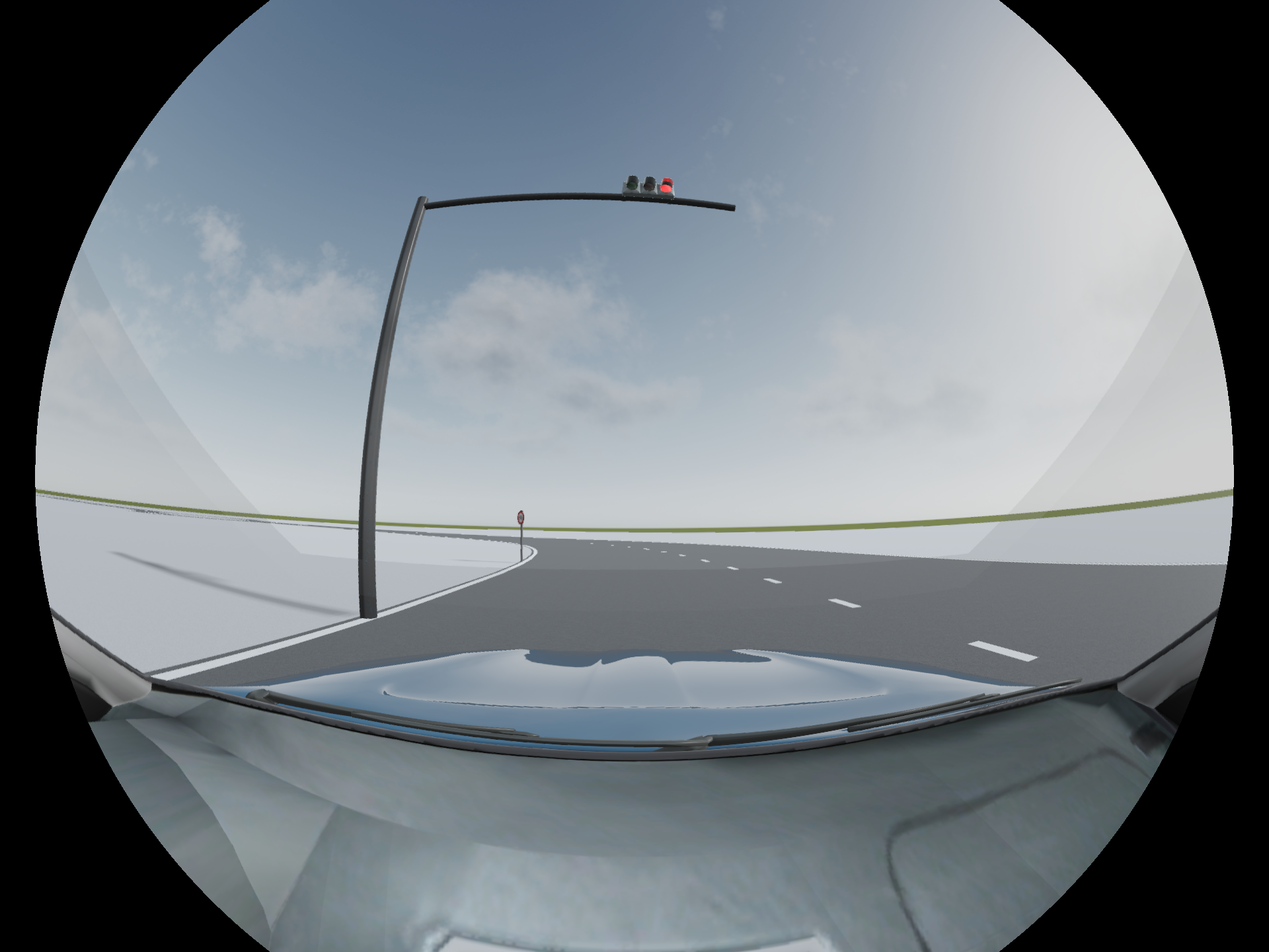Red Light: (623, 174, 676, 204)
